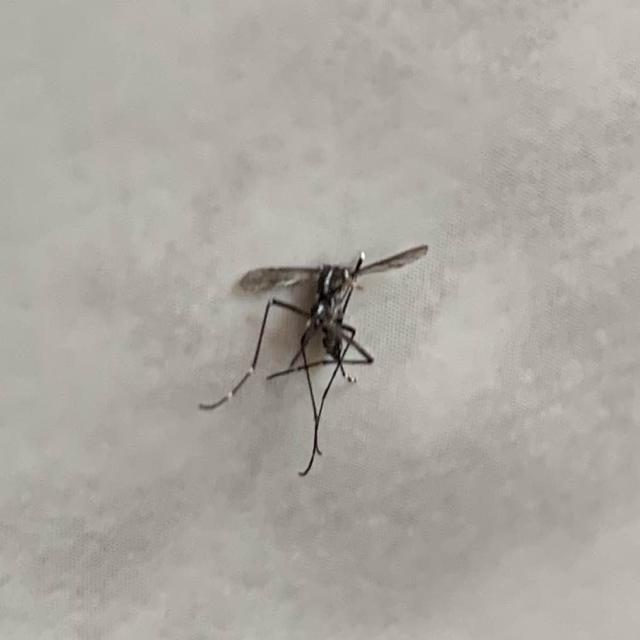albopictus: (197, 239, 425, 478)
